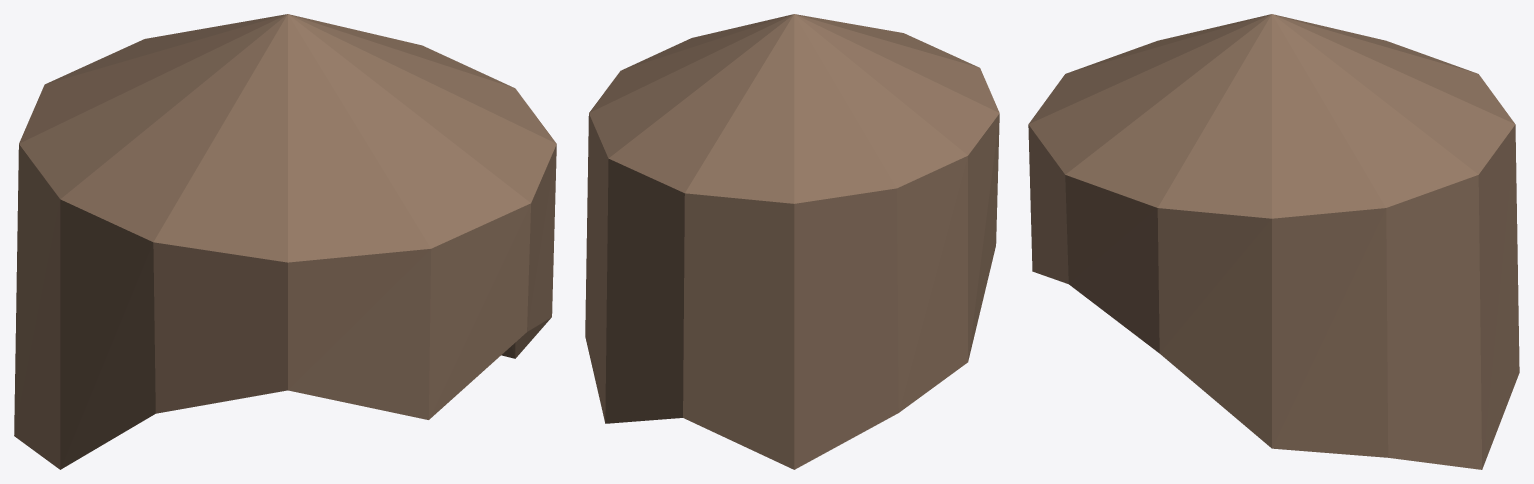
The model's file is hair_origami_nam.glb.
3 renders of one model, left to right at view 1: azimuth 30°, elevation 25°; view 2: azimuth 150°, elevation 25°; view 3: azimuth 270°, elevation 25°, orthographic. The views are drawn at different scales.
Parts seen in each view (by area): view 1: Hair_Male; view 2: Hair_Male; view 3: Hair_Male.
Boxes of the visible parts, left/top/right/bottom form: Hair_Male: left=14, top=14, right=556, bottom=469; Hair_Male: left=585, top=14, right=999, bottom=469; Hair_Male: left=1028, top=14, right=1519, bottom=469.
Bounding box in the file's own units: 0.22 × 0.22 × 0.242.
